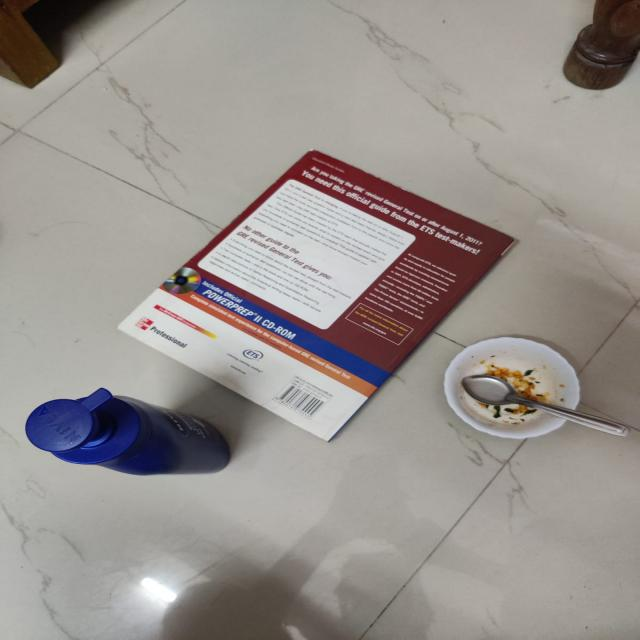paper: (108, 138, 443, 440)
plastic: (1, 385, 244, 501)
